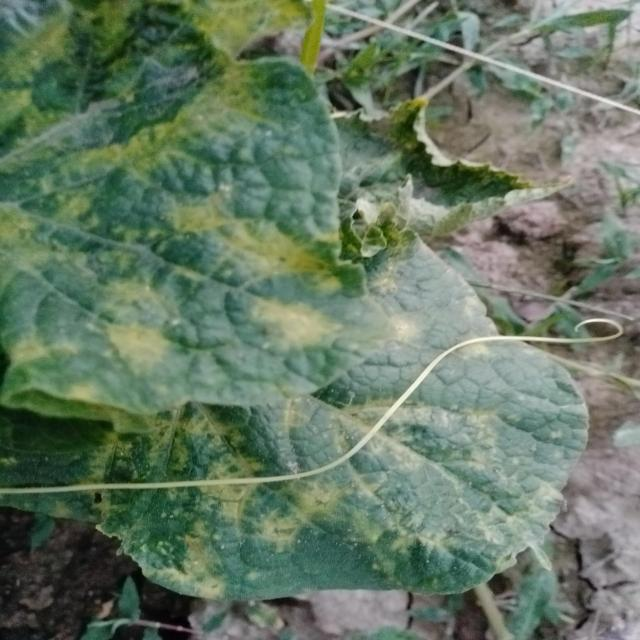cucumber_downy: (0, 0, 388, 444), (0, 389, 640, 610)
